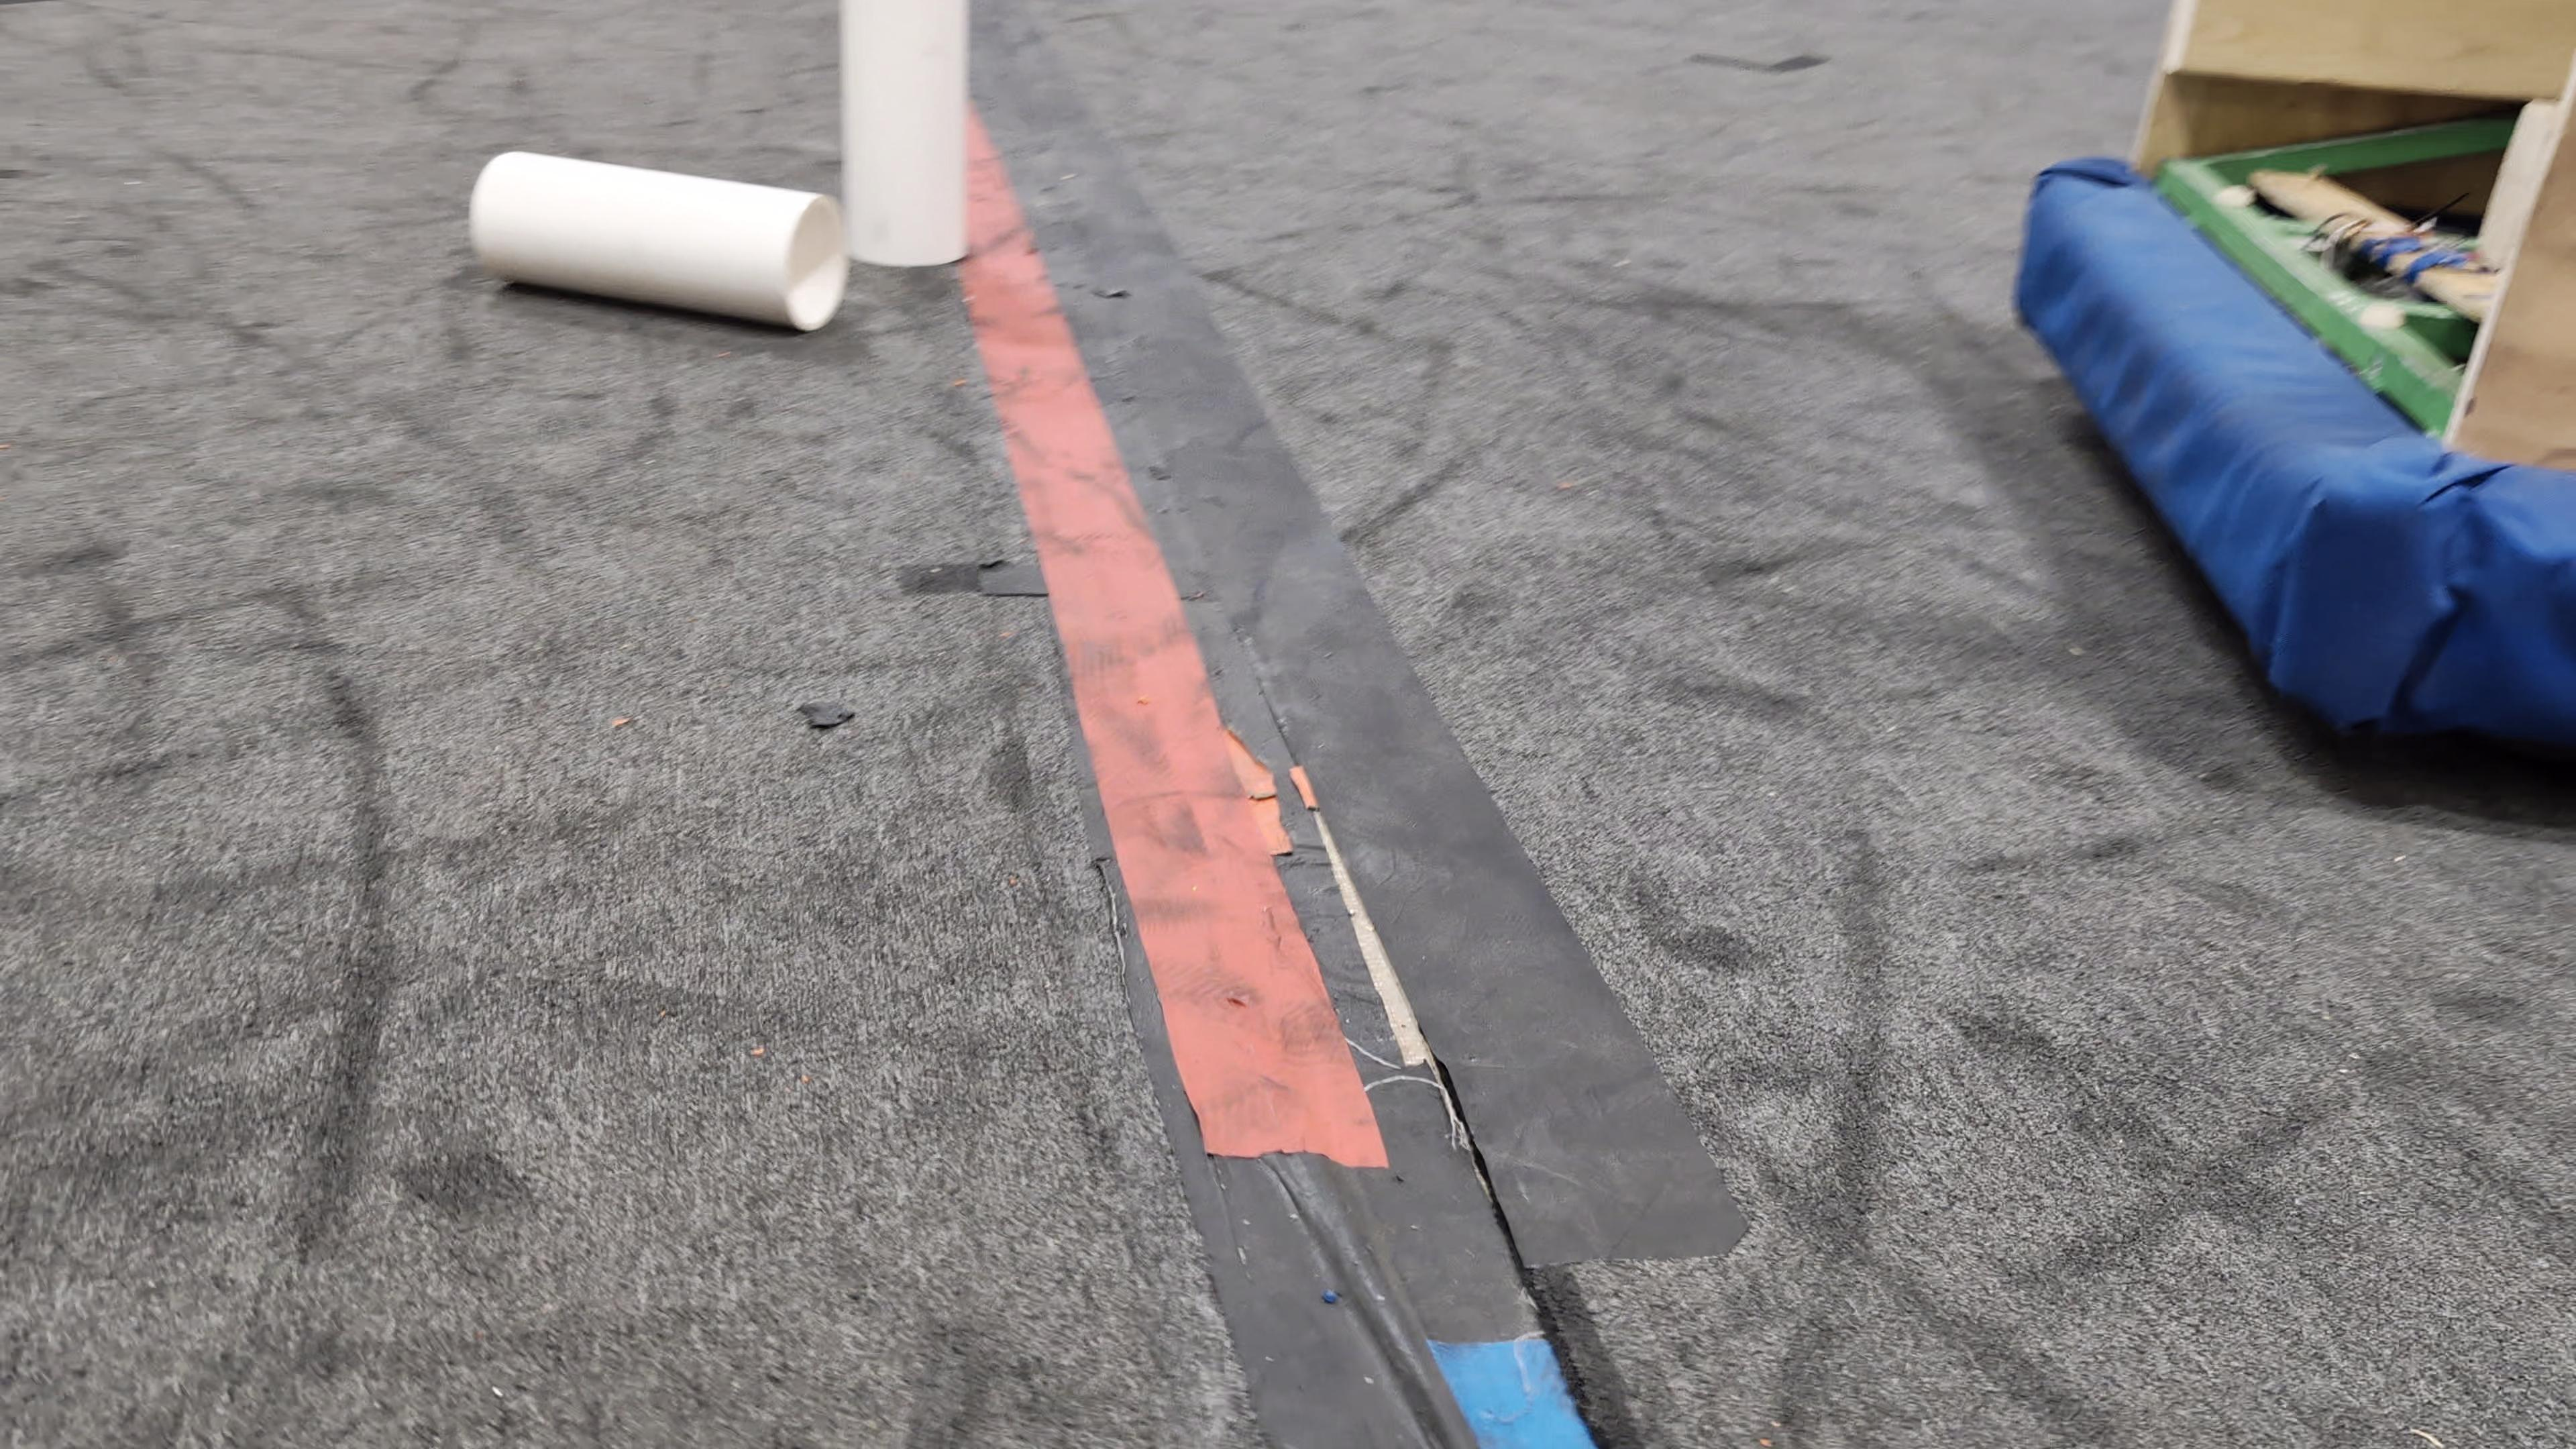coral: (467, 147, 851, 334), (833, 0, 977, 267)
